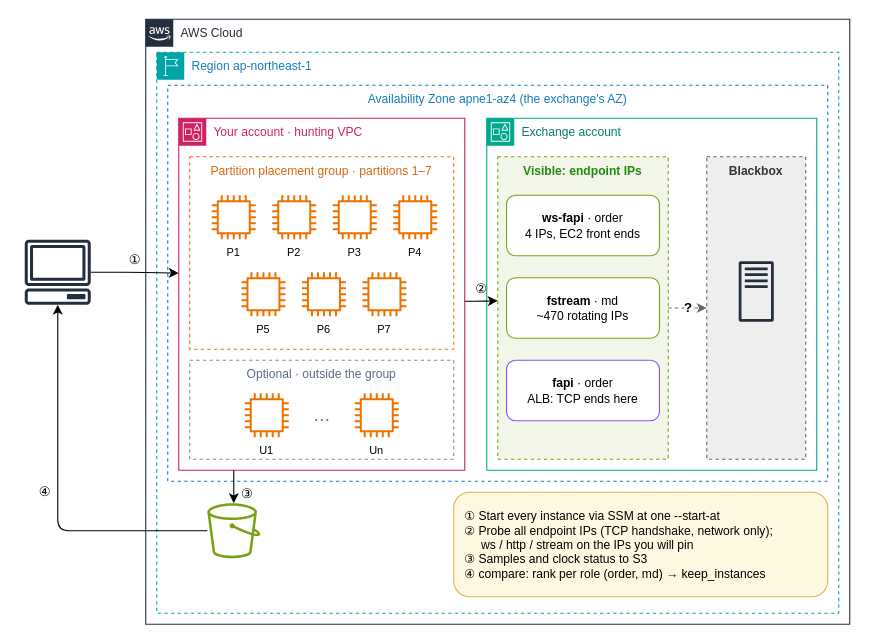
Image size: 869x644. Some labels were removed from this diagram. Each missing label, with the centre of its shape:
"Amazon S3 results/" belongs at point 233,530.
"Gateways, matching engine" belongs at point 756,291.
"Operator scripts/hunt.py" belongs at point 57,272.
